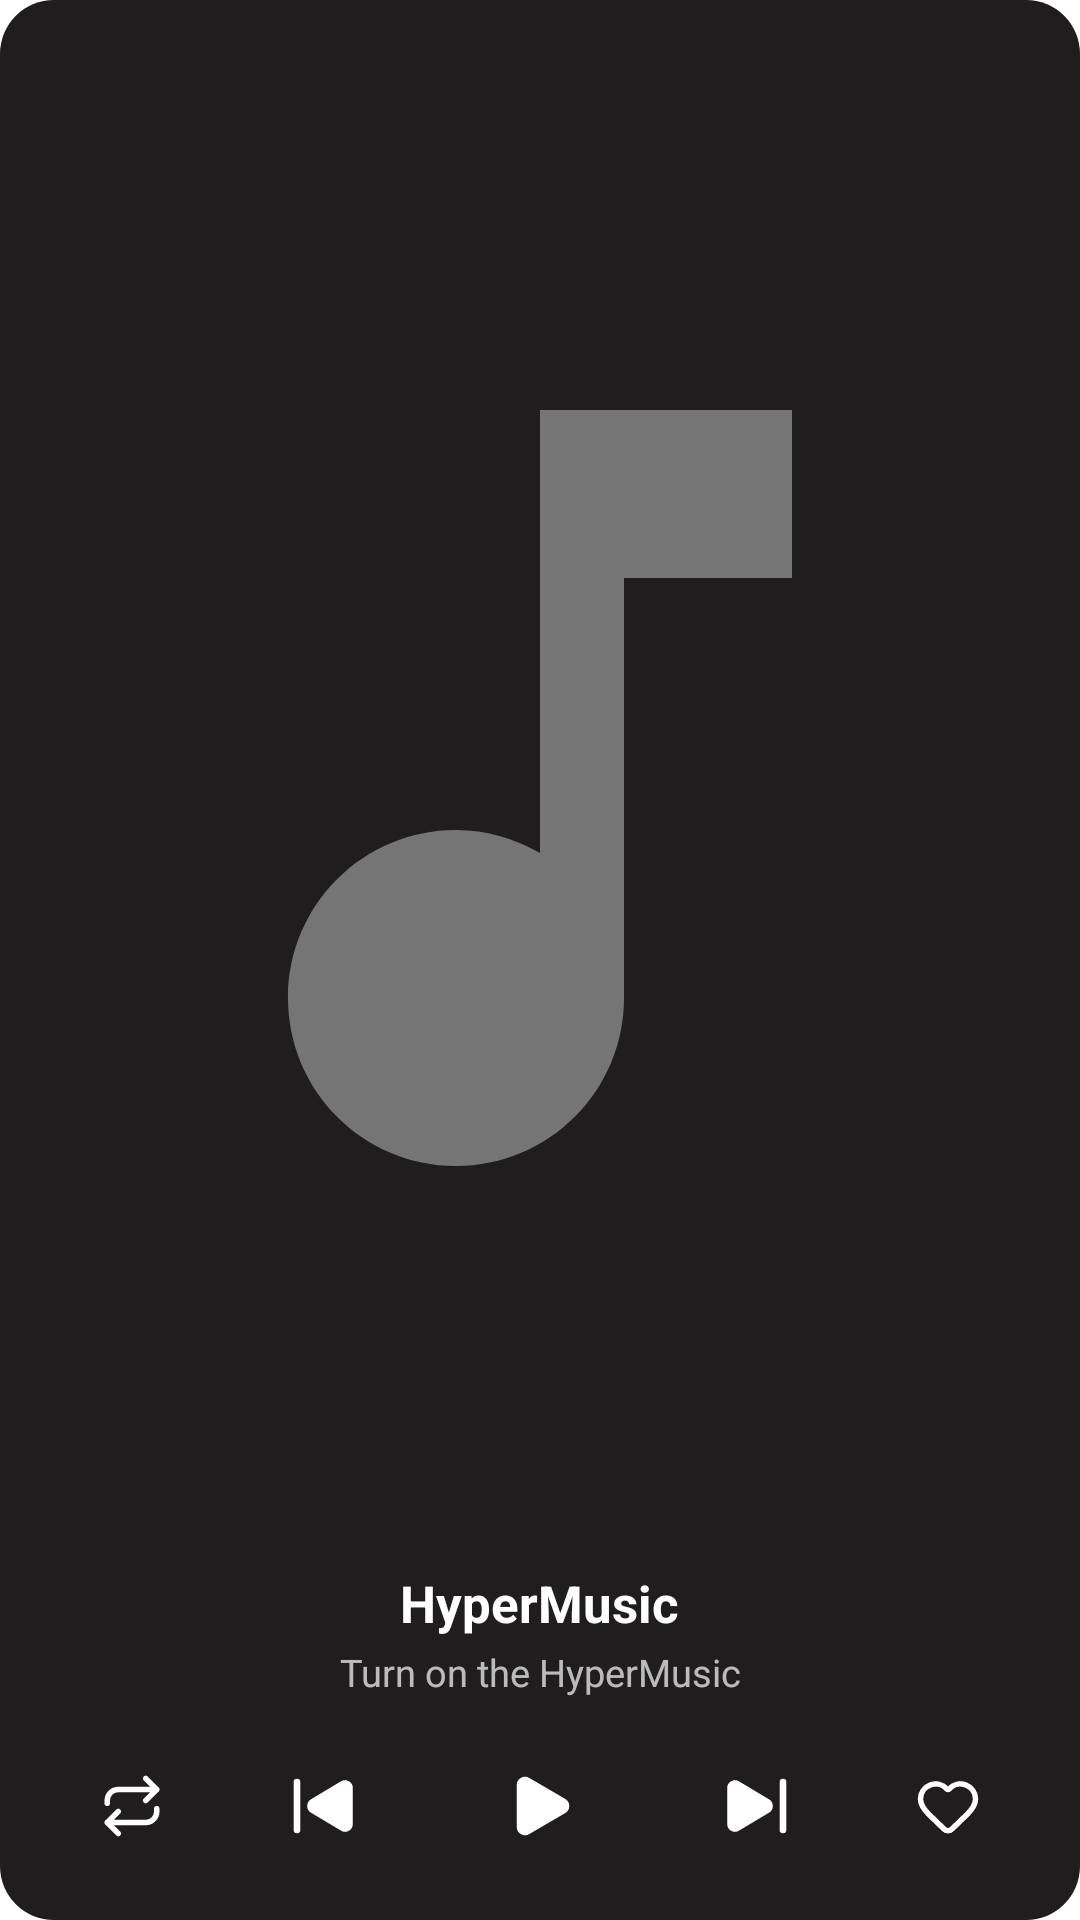

Named icons in this screenshot (1080 x 1920) and their centers, point (x, y):
Like track: point (948, 1807)
Next track: point (757, 1806)
Play or pause: point (543, 1806)
Previous track: point (323, 1806)
Repeat mode: point (132, 1806)
